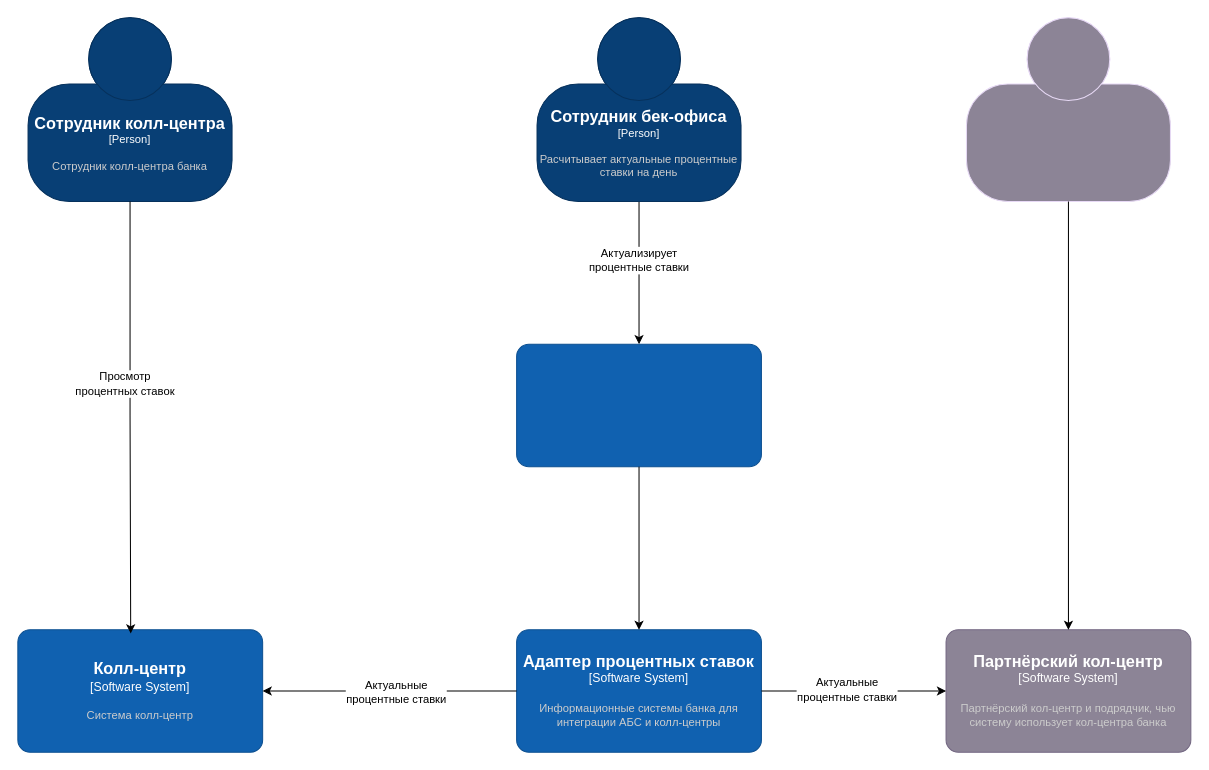
Some shapes in this 1209 by 770 pixel diagram are drawn without their labels. The centre of each missing label's shape, as x and y in pixels:
"АБС [Software System] Автоматизированная банковская система" belongs at (638,405).
"Сотрудник колл-центра [Person] Сотрудник партнерского колл-центра" belongs at (1067,109).
